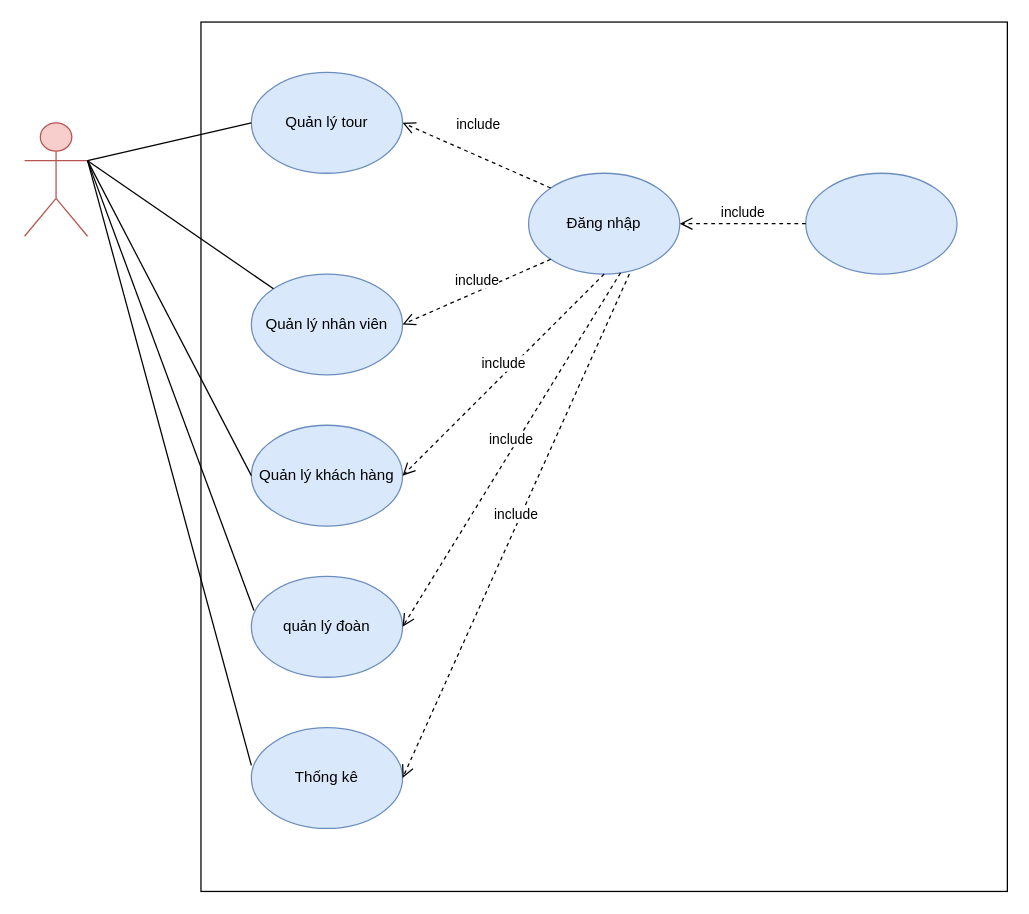
This 1029x914 diagram has some shape labels left out. Each missing label, with the centre of its shape:
"Nhân viên" goes at pixel 55 179.
"Đăng xuất" goes at pixel 881 223.
